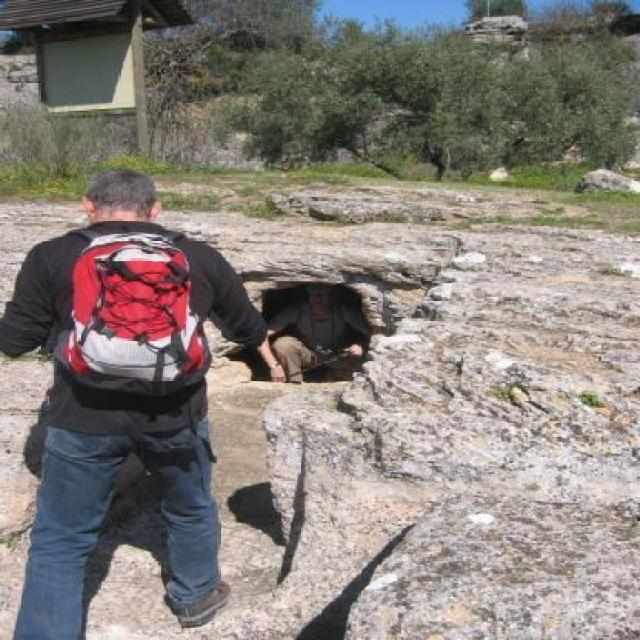backpack: (54, 228, 211, 403)
